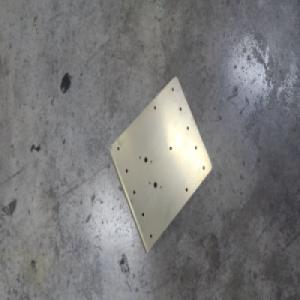MetalSheet: (107, 74, 213, 256)
